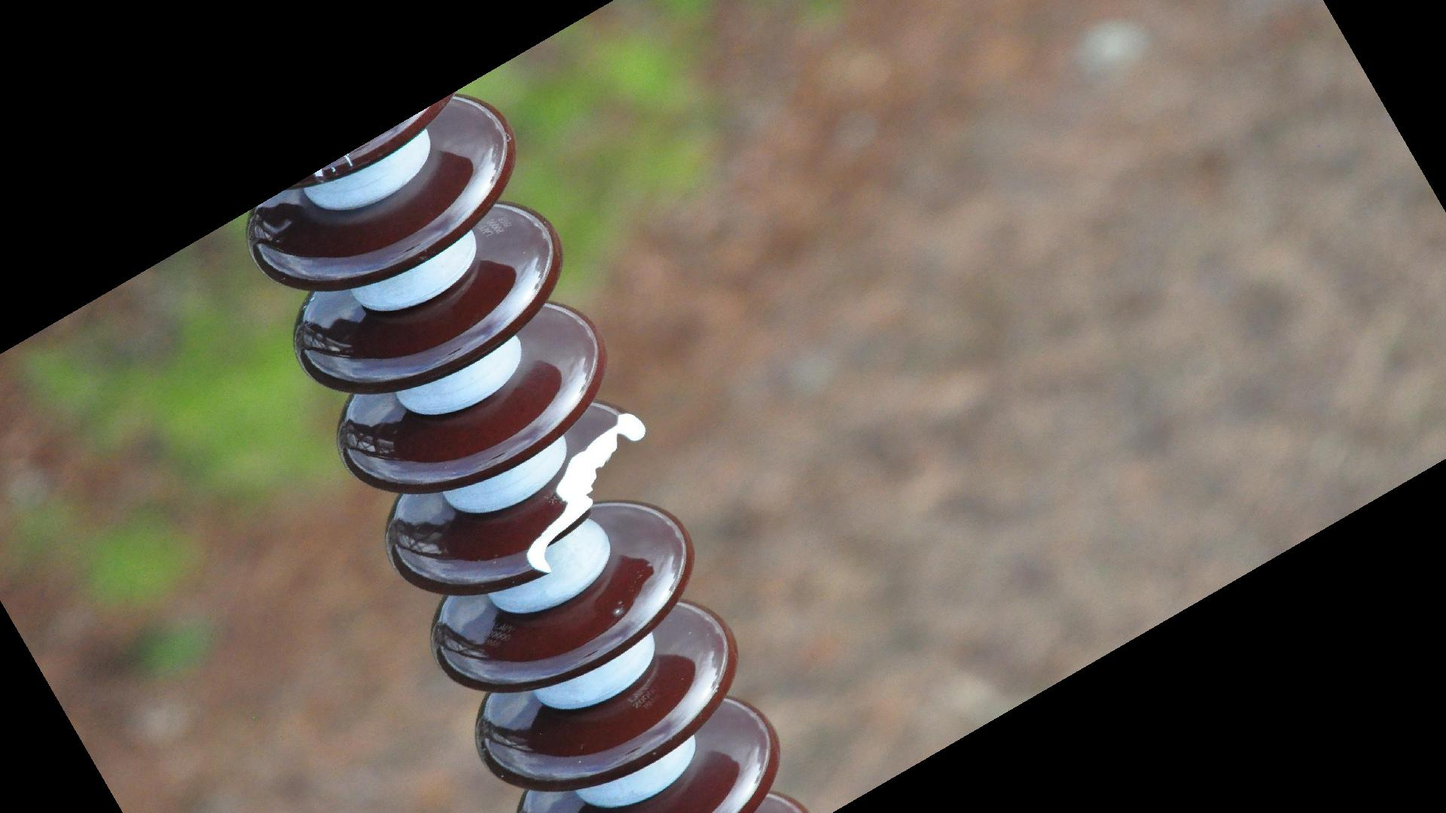insulator: (239, 87, 818, 813)
insulator_breakage: (518, 406, 654, 583)
